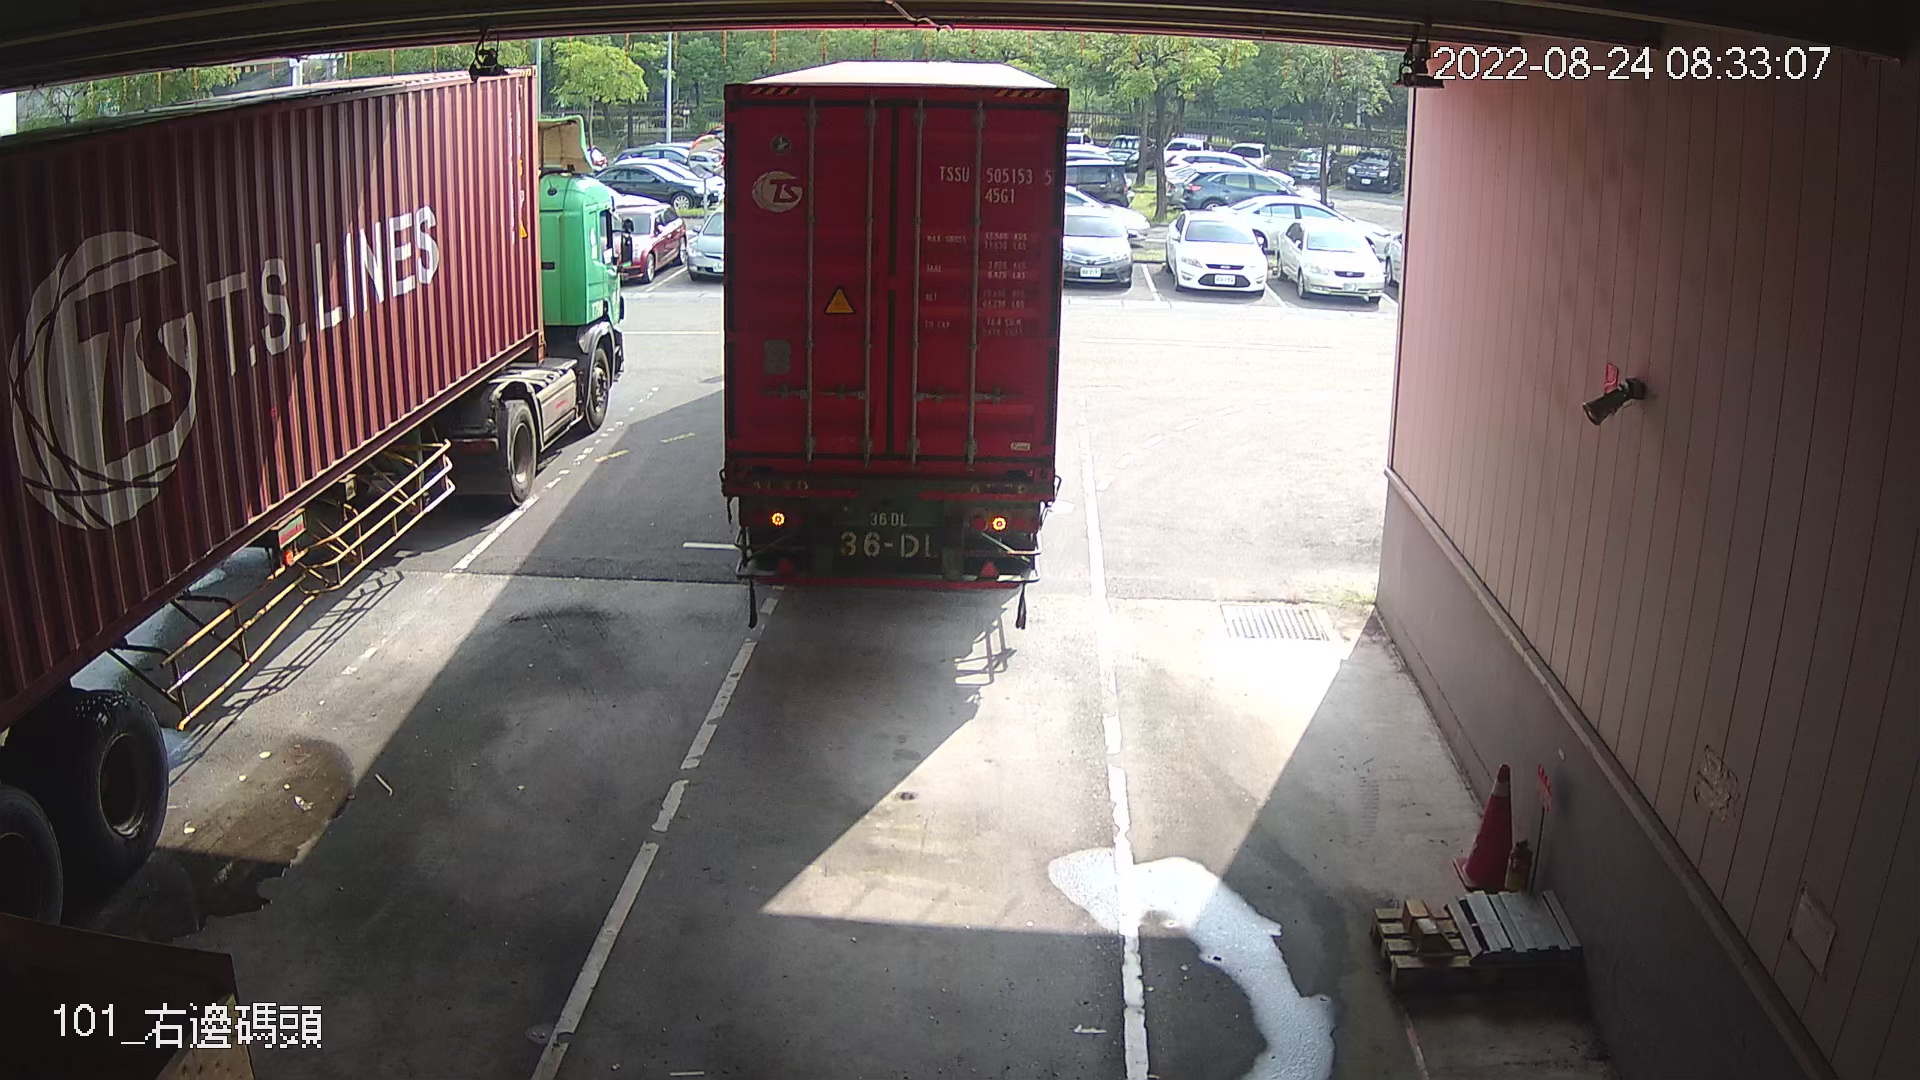container: (931, 156, 1058, 210)
